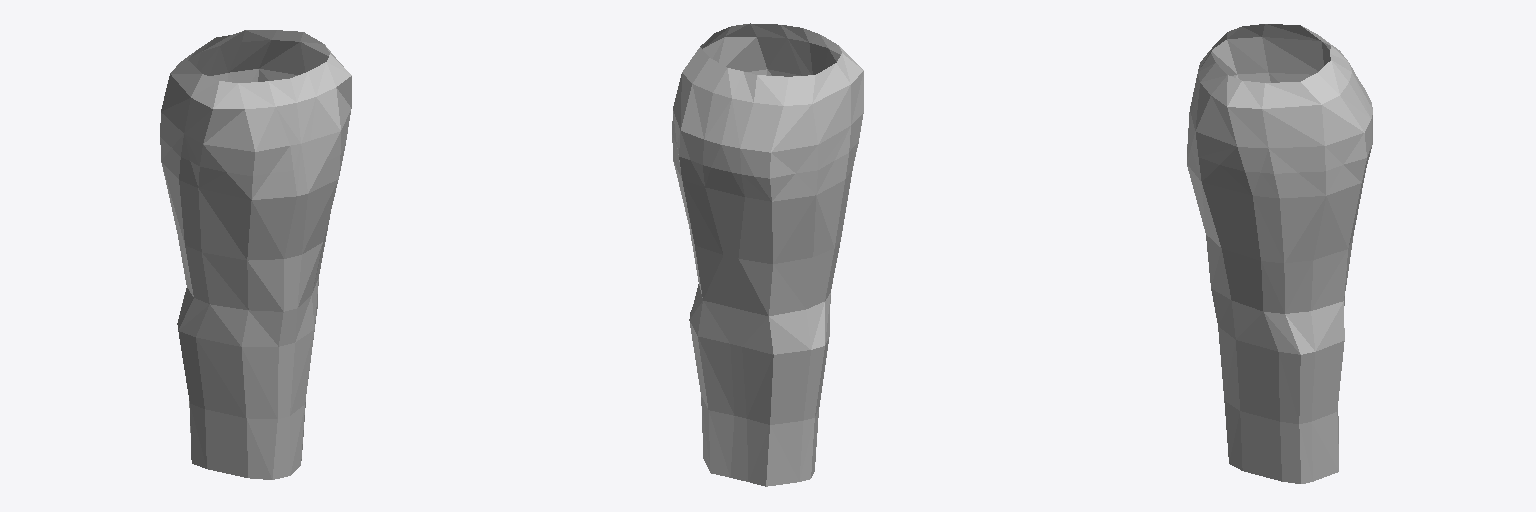
Rendered from avatar_skirt-skirt_belly.obj.
3 renders of one model, left to right at view 1: azimuth 30°, elevation 25°; view 2: azimuth 150°, elevation 25°; view 3: azimuth 270°, elevation 25°, orthographic.
Visible parts, largest first — view 1: g1_avatar_skirt; view 2: g1_avatar_skirt; view 3: g1_avatar_skirt.
Part boxes in pixels (x1,y1,x2,y2): g1_avatar_skirt: (160,30,351,479); g1_avatar_skirt: (672,23,863,486); g1_avatar_skirt: (1187,24,1372,483).
Size of the model in its own units: 0.4525 by 1.12 by 0.4679.